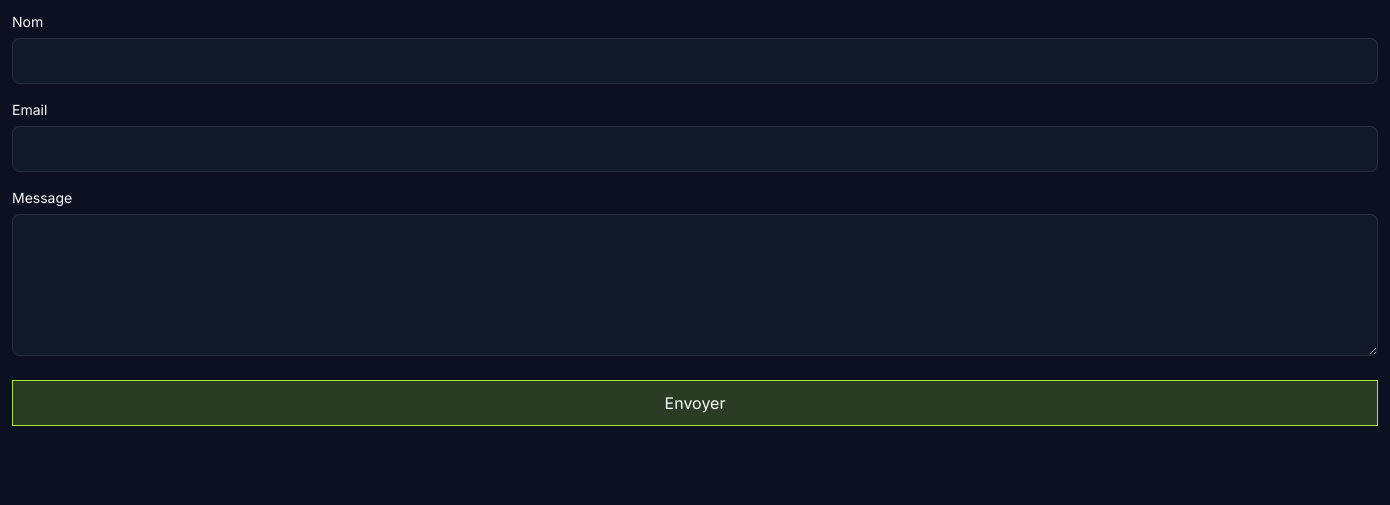
Test: ContactForm › affiche un message d'erreur lisible en cas d'échec API
Type "Killian Gayez" into the field labelled "Nom".
click(695, 61); type("Killian Gayez")  # box [12,38,1378,84]
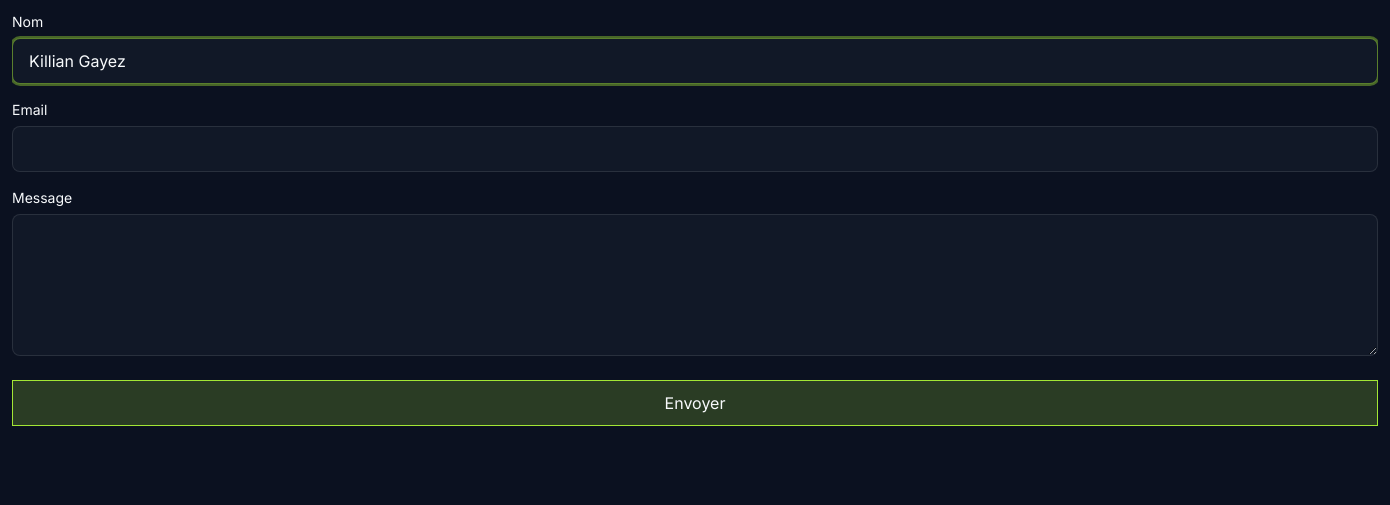
Type "killian@example.com" into the field labelled "Email".
click(695, 149); type("killian@example.com")  # box [12,126,1378,172]
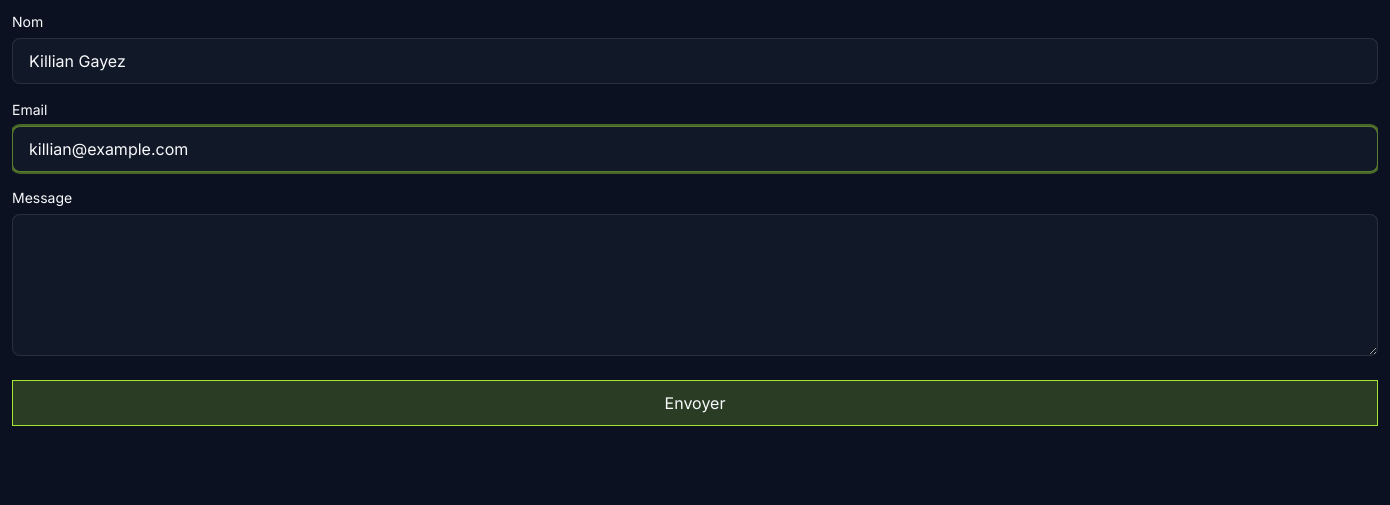
Type "Bonjour, je souhaite échanger avec vous." into the text box labelled "Message".
click(695, 285); type("Bonjour, je souhaite échanger avec vous.")  # box [12,214,1378,356]
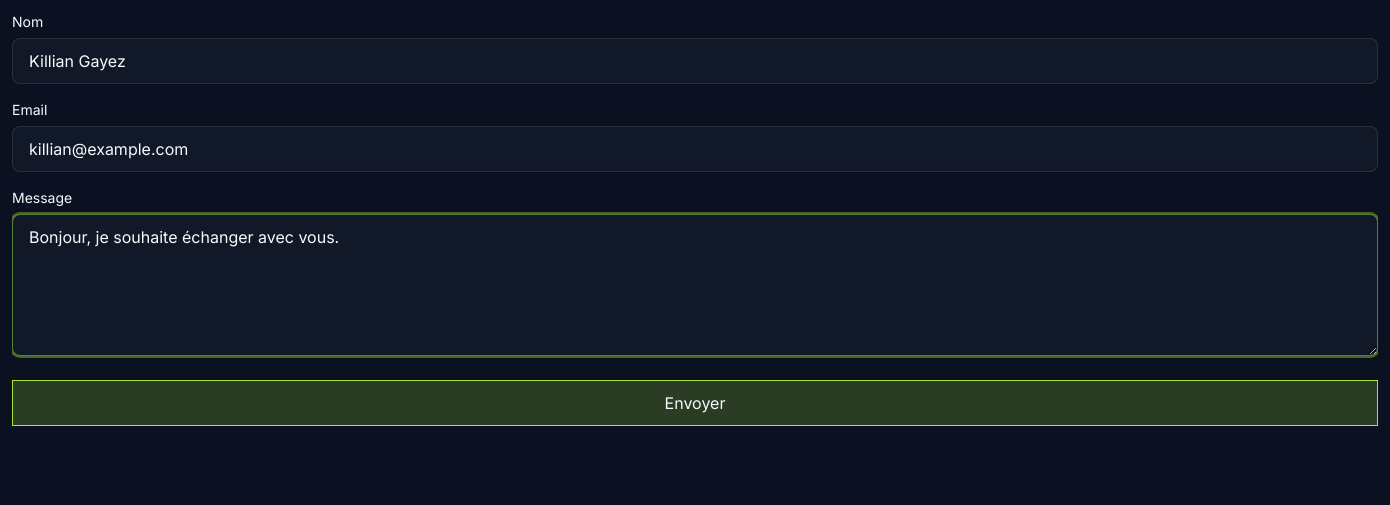
Click the button "Envoyer".
click(695, 403)  # box [12,380,1378,426]
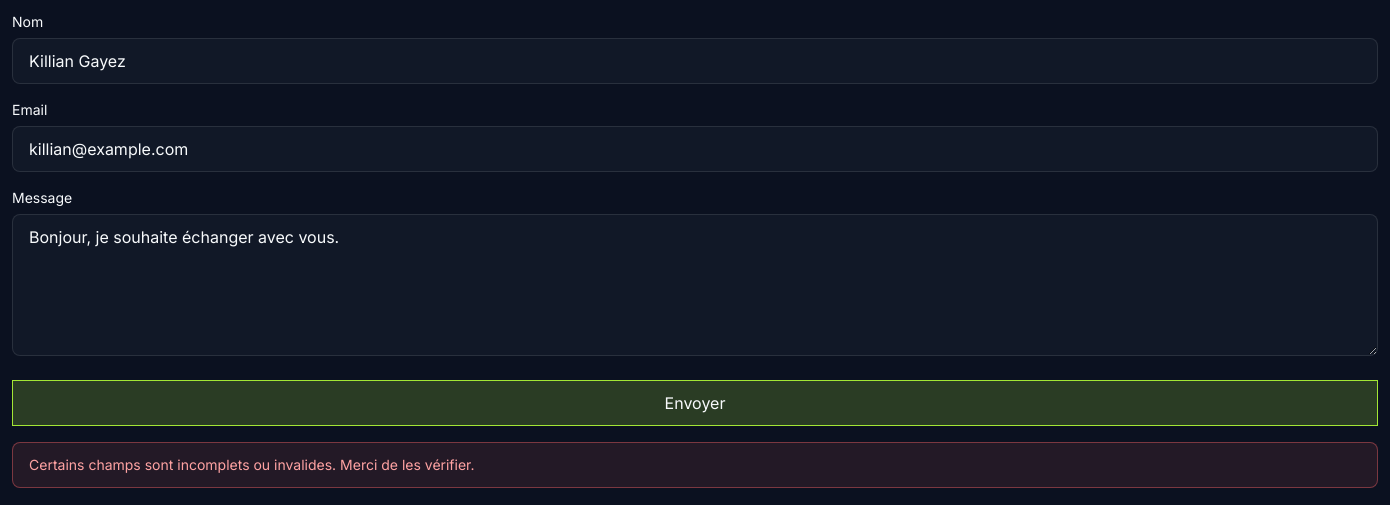
Check: the text "Certains champs sont incomplets ou invalides. Merci de les vérifier." is shown, box [12,442,1378,488]
